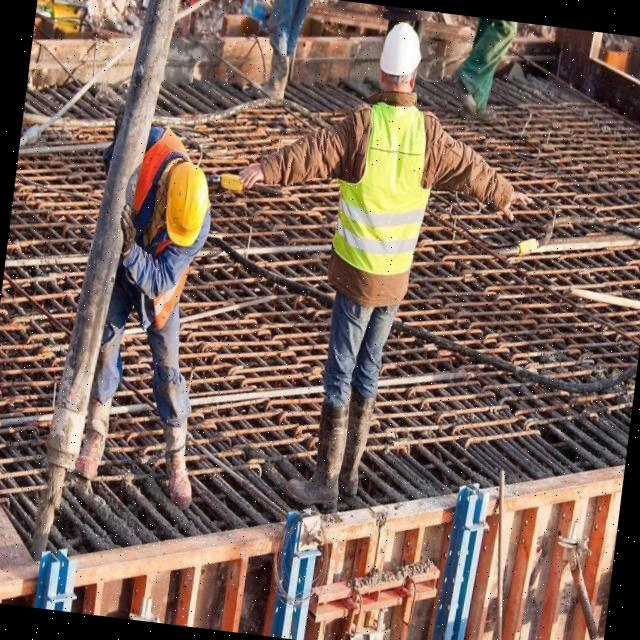Helmet: (160, 162, 214, 254), (376, 21, 426, 87)
Jacket: (337, 86, 433, 286), (115, 197, 191, 328)
